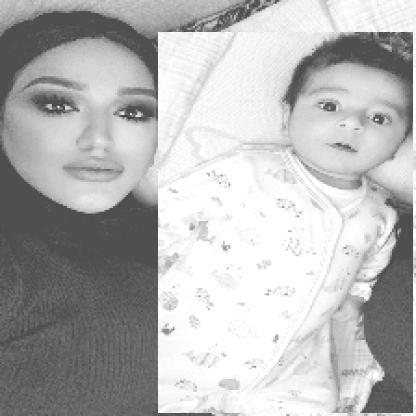child: (159, 33, 415, 415)
